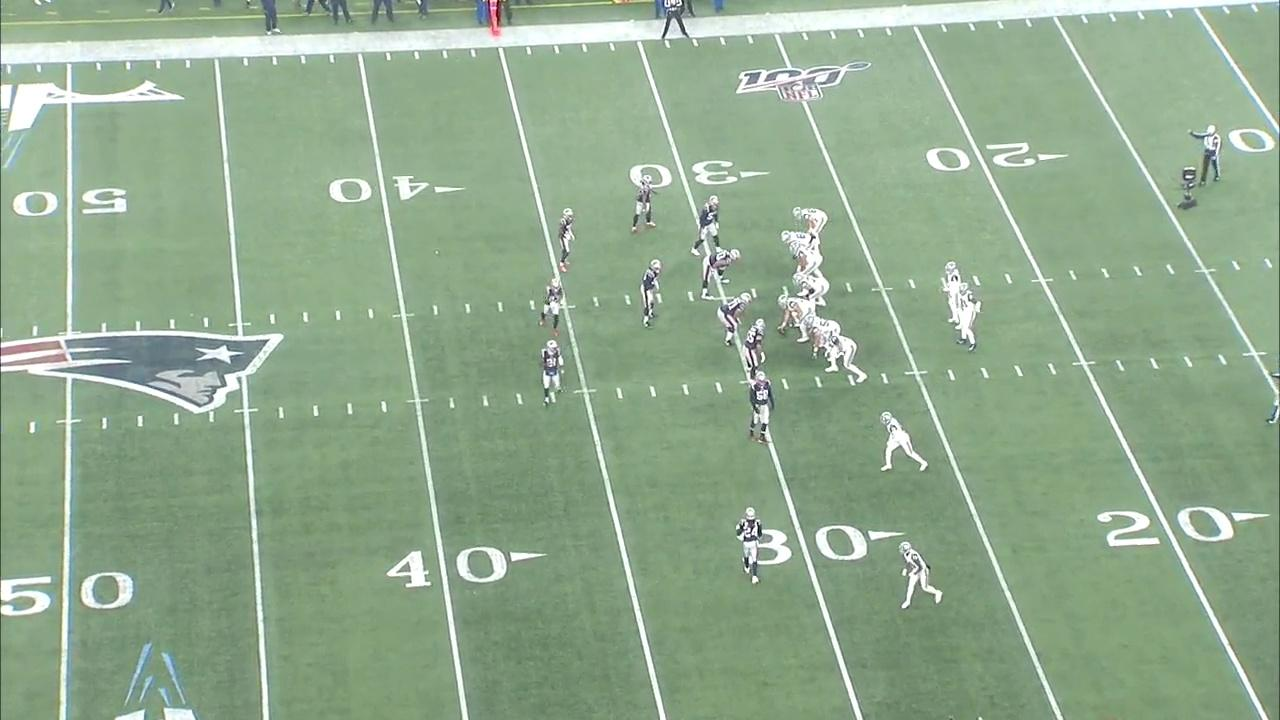player: (893, 540, 949, 612), (877, 408, 931, 475), (819, 329, 870, 384), (733, 505, 765, 588), (789, 240, 831, 297), (698, 248, 742, 302), (747, 370, 777, 446), (716, 290, 754, 349), (689, 193, 724, 257), (775, 293, 816, 345), (955, 280, 983, 355), (802, 312, 842, 364), (538, 339, 567, 410), (939, 256, 966, 331), (790, 268, 831, 317), (638, 256, 664, 332), (741, 316, 769, 386), (536, 278, 567, 338), (792, 205, 829, 255), (630, 174, 660, 234), (555, 205, 578, 275), (780, 227, 819, 255)
ref: (1185, 121, 1225, 188), (653, 0, 696, 43), (1261, 363, 1280, 432)
